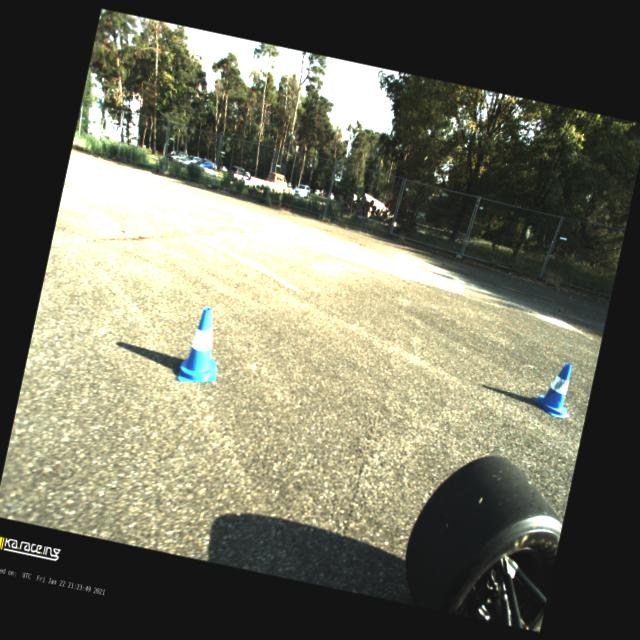blue_cone: (175, 304, 229, 388), (528, 357, 580, 420)
